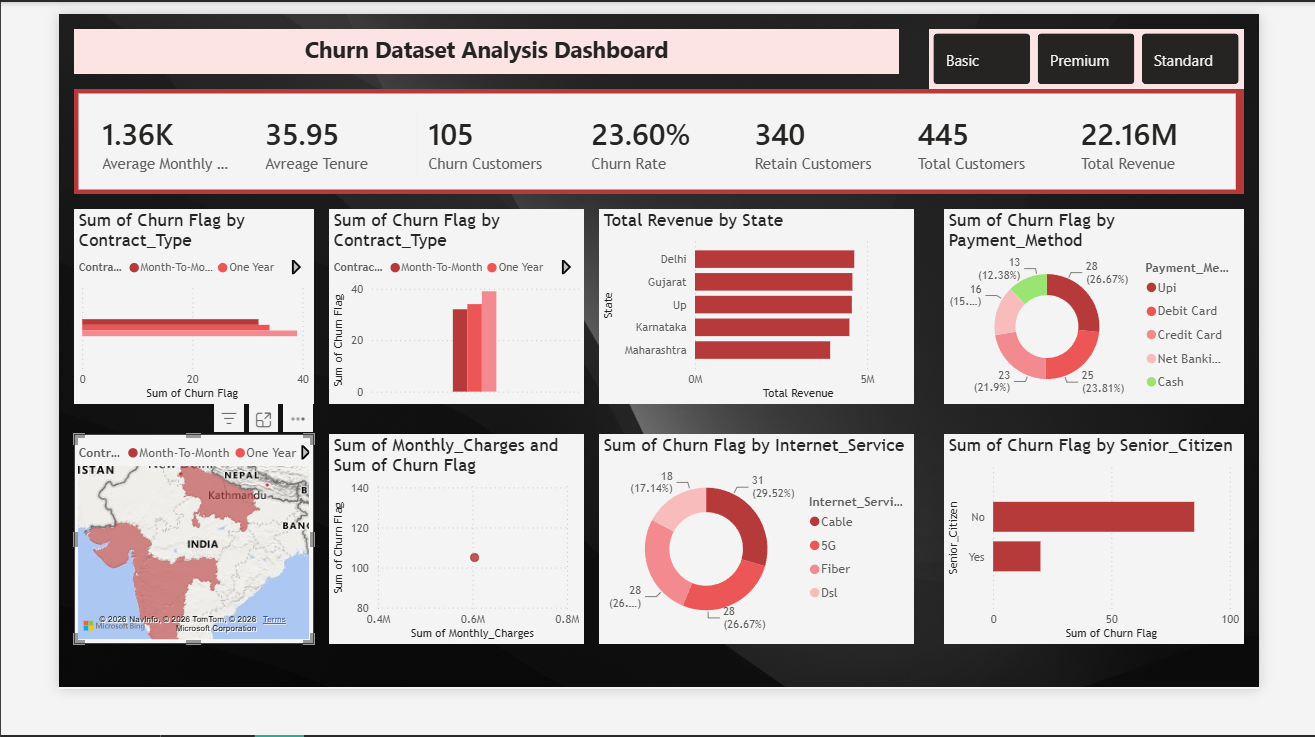

Layout of this report page (visuals, bound fields, positions):
{"tool":"powerbi","page":{"name":"Page 1","canvas":[1280,720],"ordinal":0},"visuals":[{"type":"cardVisual","fields":{"Data":["DAX_Measure.Average Monthly Charges","DAX_Measure.Avreage Tenure","DAX_Measure.Churn Customers","DAX_Measure.Churn Rate","DAX_Measure.Retain Customers","DAX_Measure.Total Customers","DAX_Measure.Total Revenue"]},"box":[16,80,1248,112],"z":0},{"type":"clusteredBarChart","fields":{"Series":["A.Contract_Type"],"Y":["Sum(A.Churn Flag)"]},"box":[16,208,256,208],"z":1000},{"type":"clusteredColumnChart","fields":{"Series":["A.Contract_Type"],"Y":["Sum(A.Churn Flag)"]},"box":[288,208,272,208],"z":2000},{"type":"filledMap","fields":{"Category":["A.State"],"Series":["A.Contract_Type"]},"box":[16,448,256,224],"z":3000},{"type":"scatterChart","fields":{"Y":["Sum(A.Churn Flag)"],"X":["Sum(A.Monthly_Charges)"]},"box":[288,448,272,224],"z":4000},{"type":"barChart","fields":{"Y":["DAX_Measure.Total Revenue"],"Category":["A.State"]},"box":[576,208,336,208],"z":5000},{"type":"donutChart","fields":{"Y":["Sum(A.Churn Flag)"],"Category":["A.Internet_Service"]},"box":[576,448,336,224],"z":6000},{"type":"donutChart","fields":{"Y":["Sum(A.Churn Flag)"],"Category":["A.Payment_Method"]},"box":[944,208,320,208],"z":7000},{"type":"barChart","fields":{"Category":["A.Senior_Citizen"],"Y":["Sum(A.Churn Flag)"]},"box":[944,448,320,224],"z":8000},{"type":"advancedSlicerVisual","fields":{"Values":["A.Subscription_Type"]},"box":[928,16,336,64],"z":9000},{"type":"textbox","box":[16,16,880,48],"z":10000}]}

Visuals, with their boxes in screenshot pixels (x1, y1, x2, y2), scaled from the page's 1280x720 canvas onto the 1315x737 screenshot:
cardVisual - DAX_Measure.Average Monthly Charges x DAX_Measure.Avreage Tenure: 16,82,1299,197
clusteredBarChart - A.Contract_Type x Sum(A.Churn Flag): 16,213,279,426
clusteredColumnChart - A.Contract_Type x Sum(A.Churn Flag): 296,213,575,426
filledMap - A.State x A.Contract_Type: 16,459,279,688
scatterChart - Sum(A.Churn Flag) x Sum(A.Monthly_Charges): 296,459,575,688
barChart - DAX_Measure.Total Revenue x A.State: 592,213,937,426
donutChart - Sum(A.Churn Flag) x A.Internet_Service: 592,459,937,688
donutChart - Sum(A.Churn Flag) x A.Payment_Method: 970,213,1299,426
barChart - A.Senior_Citizen x Sum(A.Churn Flag): 970,459,1299,688
advancedSlicerVisual - A.Subscription_Type: 953,16,1299,82
textbox: 16,16,920,66
